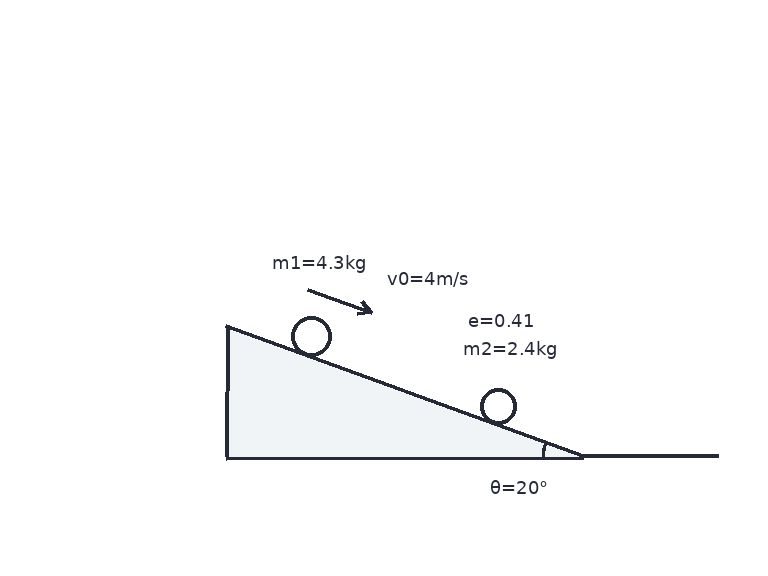ball: (289, 314, 333, 358), (478, 386, 518, 426)
ramp: (225, 324, 585, 458)
